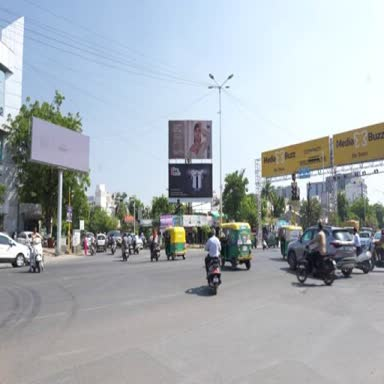Car: (323, 226, 356, 276), (0, 234, 29, 266), (125, 233, 143, 249), (369, 231, 381, 251), (107, 231, 122, 247), (16, 232, 32, 246), (359, 231, 371, 247), (96, 234, 107, 251), (82, 233, 92, 247)
